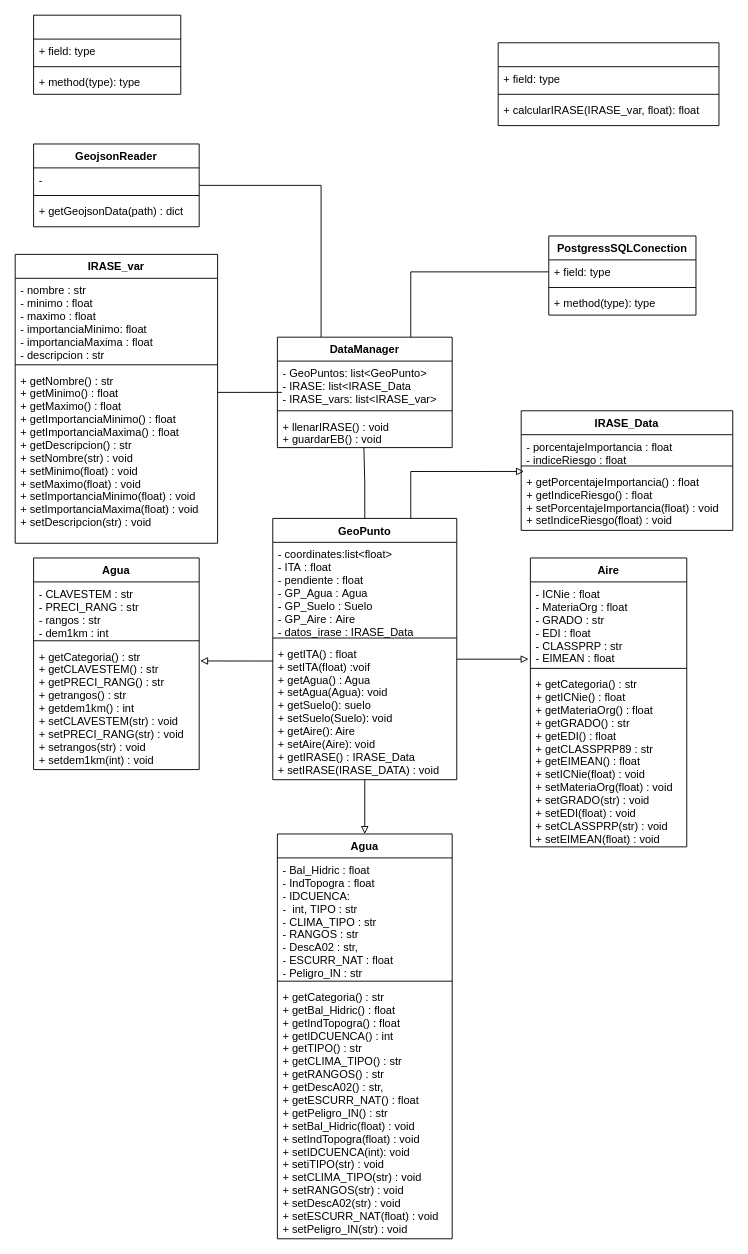
The diagram is 748 pixels wide and 1254 high, and some of its shapes have lost their labels. The box of each missing label's shape, as (x1, y1, x2, y2) in pixels:
ConversorCC: (33, 14, 181, 94)
IRASE_Calc: (497, 42, 719, 126)
